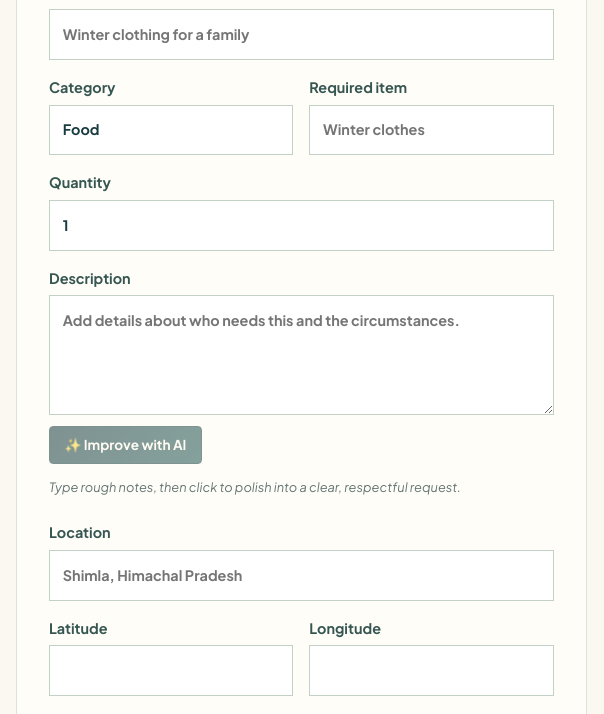
Feature 4: AI Content Generation for Help Requests › 2. enables "✨ Improve with AI" button when description has at least 3 characters
(page scrolled)
Type "I need winter clothes and blankets for a family in Mandi" into the text box with placeholder "Add details about who needs this and the circumstances." at (301, 355), box x1=49 y1=295 x2=554 y2=415
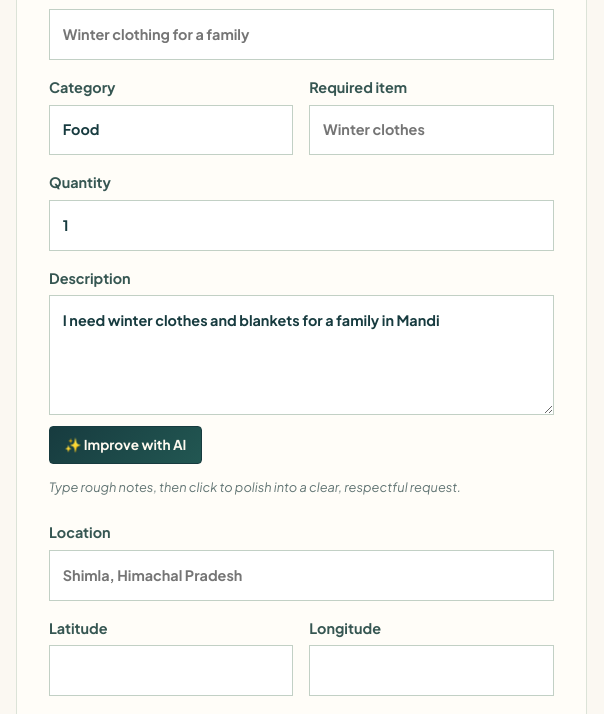
Now the button "✨ Improve with AI" is enabled, box x1=49 y1=426 x2=202 y2=464
